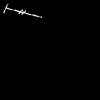treble_crochet: (4, 6, 37, 16)
